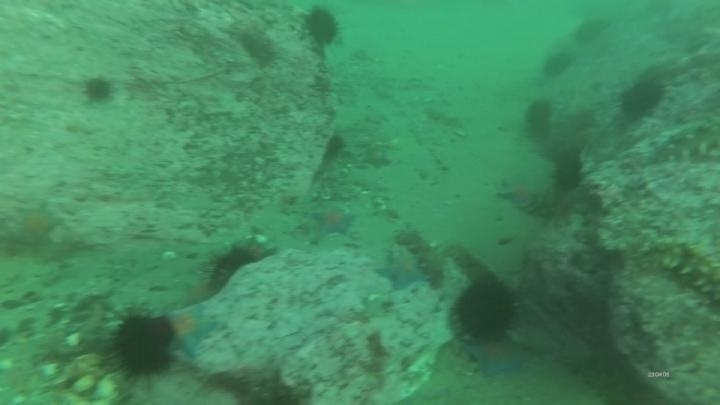echinus: (106, 311, 178, 382), (451, 275, 521, 342), (202, 242, 262, 295), (617, 76, 666, 121), (301, 6, 342, 49), (550, 149, 586, 194), (522, 97, 555, 141), (571, 16, 611, 47), (80, 74, 116, 105), (541, 49, 574, 80), (322, 132, 348, 163)
holothurian: (644, 235, 720, 309), (640, 117, 719, 168), (395, 224, 450, 288)
starfish: (164, 303, 219, 361), (462, 335, 528, 380), (10, 201, 64, 249), (374, 249, 430, 292), (310, 203, 358, 239), (495, 175, 541, 212), (179, 276, 216, 308), (358, 147, 393, 171)
